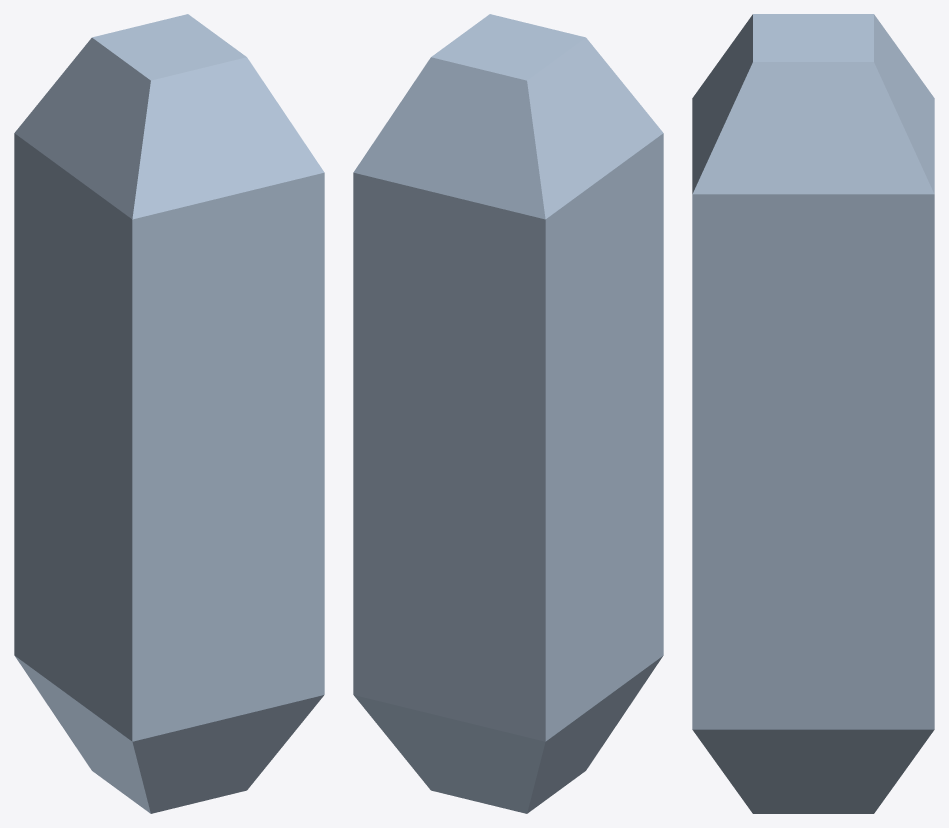
Rendered from SurvivorUpperLeg.fbx.
3 views of the same model, side by side, from view 1: azimuth 30°, elevation 25°; view 2: azimuth 150°, elevation 25°; view 3: azimuth 270°, elevation 25° (orthographic). The views are drawn at different scales.
Visible parts, largest first — view 1: SurvivorUpperLeg; view 2: SurvivorUpperLeg; view 3: SurvivorUpperLeg.
Boxes of the visible parts, x1,y1,x2,y2 form: SurvivorUpperLeg: (14,14,324,813); SurvivorUpperLeg: (353,14,663,813); SurvivorUpperLeg: (692,14,934,813).
Size of the model in its own units: 0.1568 by 0.5717 by 0.1668.
